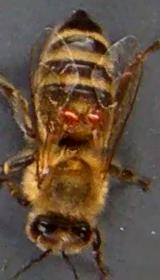varroa_mite: (86, 103, 107, 126), (60, 106, 82, 125)
